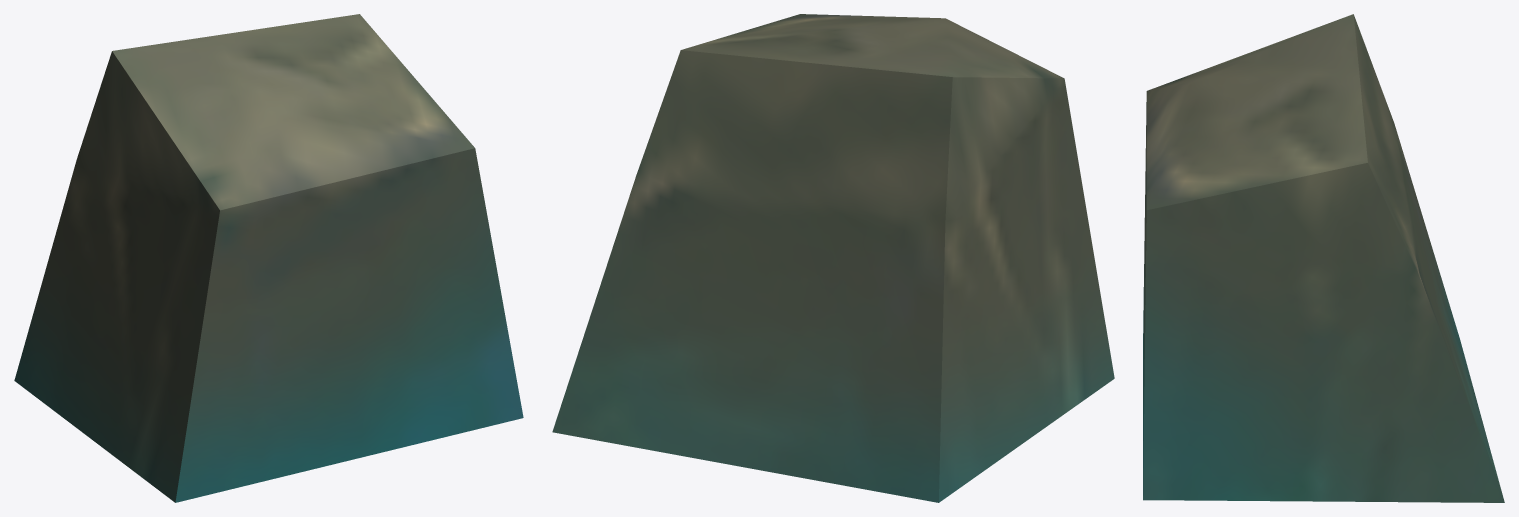
The model's file is scenes_beach_rock02d.FBX.
The picture shows the model from 3 angles, left to right: view 1: azimuth 30°, elevation 25°; view 2: azimuth 150°, elevation 25°; view 3: azimuth 270°, elevation 25°; orthographic projection. The views are drawn at different scales.
Parts seen in each view (by area): view 1: scenes_beach_rock02d; view 2: scenes_beach_rock02d; view 3: scenes_beach_rock02d.
Boxes of the visible parts, left/top/right/bottom form: scenes_beach_rock02d: left=14, top=14, right=523, bottom=502; scenes_beach_rock02d: left=552, top=14, right=1114, bottom=502; scenes_beach_rock02d: left=1143, top=14, right=1504, bottom=502.
Size of the model in its own units: 208 by 202 by 192.
